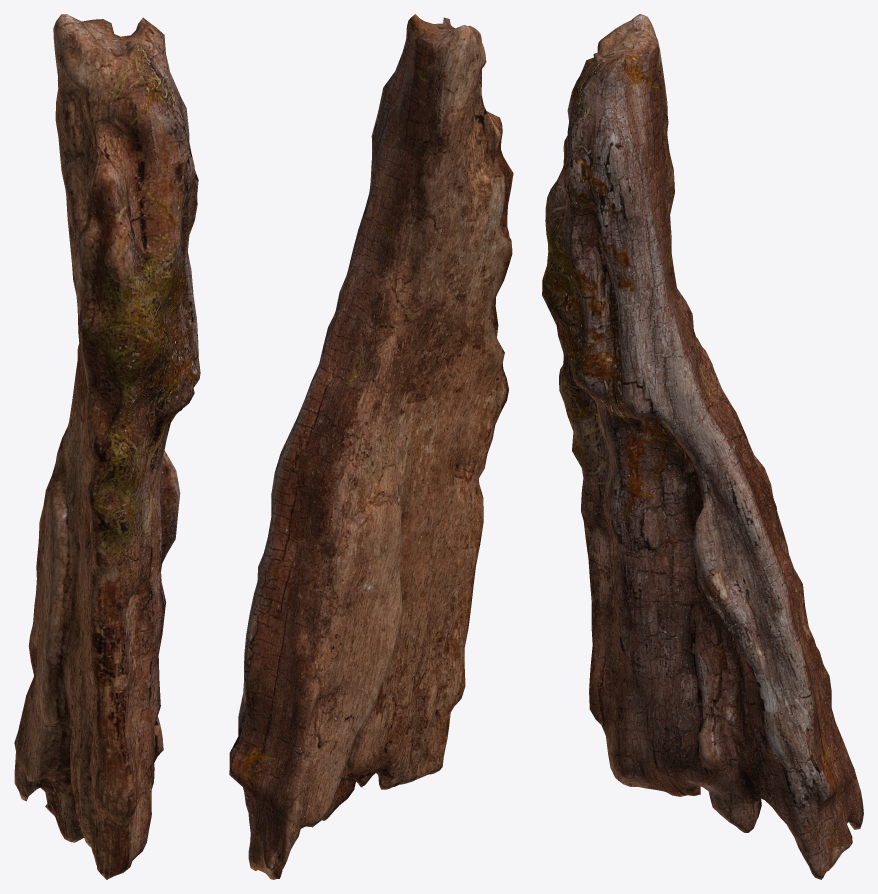
File: chunky_branch.fbx
3 views of the same model, side by side, from view 1: azimuth 30°, elevation 25°; view 2: azimuth 150°, elevation 25°; view 3: azimuth 270°, elevation 25° (orthographic). The views are drawn at different scales.
Parts seen in each view (by area): view 1: Aset_tree_branch_T_pbtqd_LOD0; view 2: Aset_tree_branch_T_pbtqd_LOD0; view 3: Aset_tree_branch_T_pbtqd_LOD0.
Boxes of the visible parts, bbox=[...] form: Aset_tree_branch_T_pbtqd_LOD0: bbox=[14, 14, 200, 879]; Aset_tree_branch_T_pbtqd_LOD0: bbox=[229, 14, 513, 879]; Aset_tree_branch_T_pbtqd_LOD0: bbox=[542, 14, 863, 879].
Size of the model in its own units: 7 by 33.18 by 11.94.
